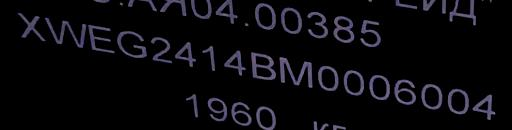letter: (43, 12, 89, 51), (276, 53, 318, 93), (246, 45, 282, 85), (14, 7, 50, 44), (84, 19, 118, 58), (312, 60, 346, 98), (364, 67, 396, 106), (111, 29, 149, 60), (470, 88, 502, 123), (218, 44, 248, 80), (391, 73, 421, 108), (146, 34, 176, 68), (172, 36, 202, 70), (420, 77, 446, 116), (341, 64, 367, 101), (445, 83, 473, 116), (200, 41, 222, 75)
